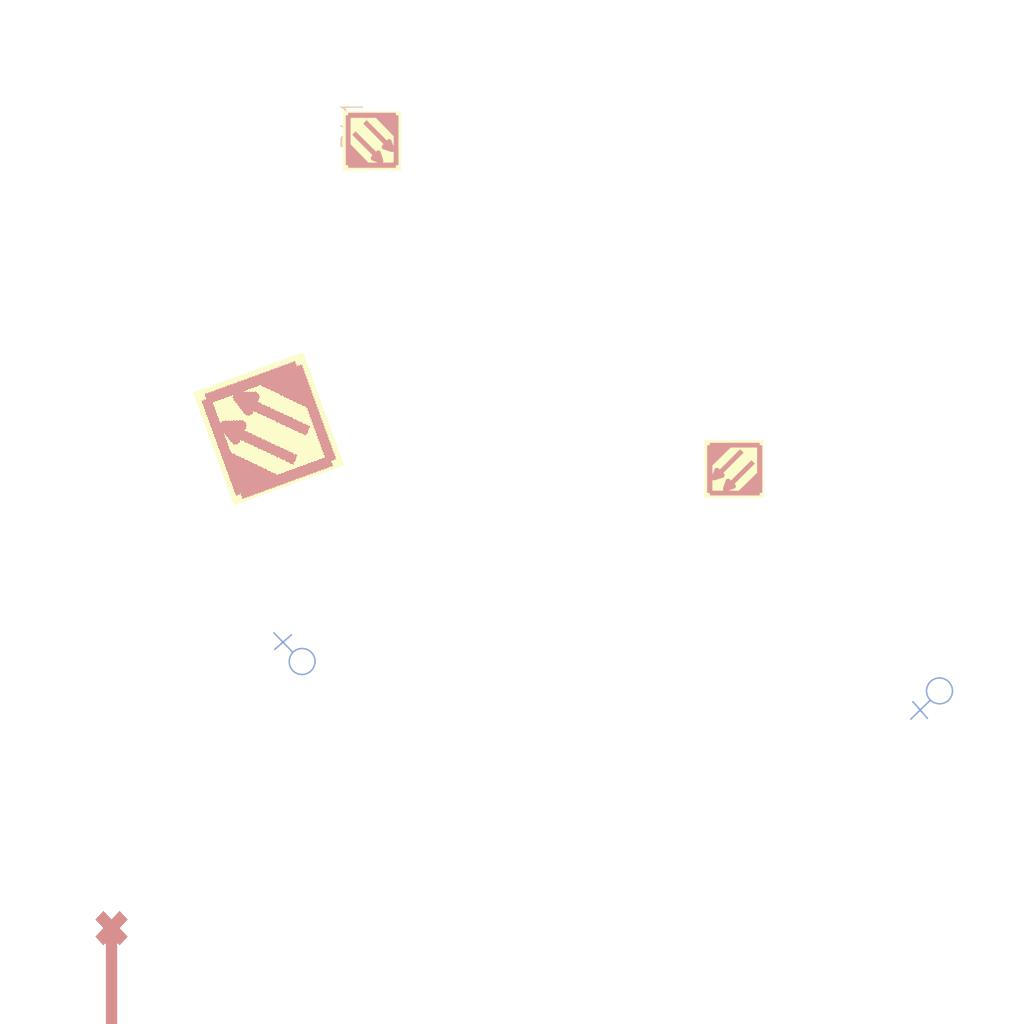ASR_Ansaugoeffnung: (91, 908, 137, 1024)
ASR_Ansaugrauchmelder: (188, 348, 349, 509), (703, 438, 765, 500), (341, 110, 403, 172)
Downlight_LED_Einbauleuchten_Flur: (338, 103, 402, 149)
Elektroanschluss_allgemein_230V_Geraeteanschlussdose_230V: (909, 676, 958, 723), (270, 631, 317, 680)
